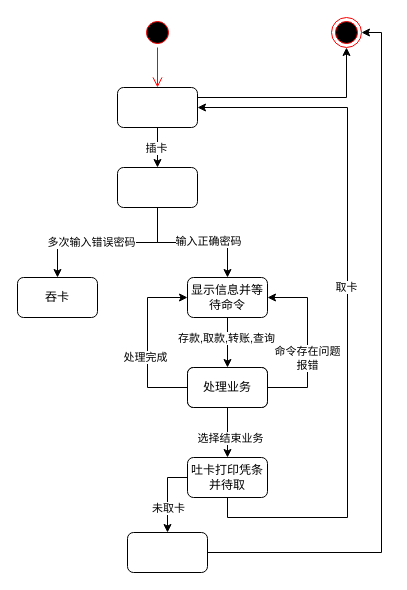
Image size: 407x590. Some labels were removed from this diagram. Each missing label, with the centre of its shape:
"异常状态，不再提供服务" belongs at point (167, 552).
"待机" belongs at point (157, 107).
"身份认证" belongs at point (157, 187).
